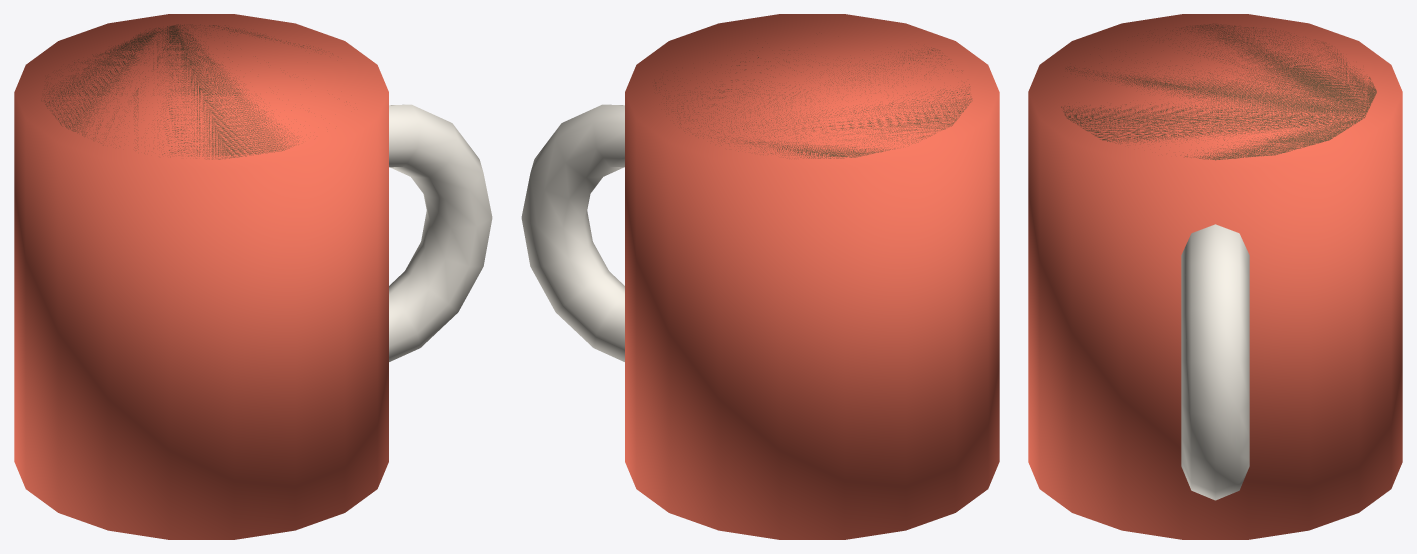
Rendered from Decor_CoffeeMug.fbx.
3 views of the same model, side by side, from view 1: azimuth 30°, elevation 25°; view 2: azimuth 150°, elevation 25°; view 3: azimuth 270°, elevation 25° (orthographic).
Parts seen in each view (by area): view 1: Mug_Body, Mug_Handle, Mug_Coffee; view 2: Mug_Body, Mug_Handle, Mug_Coffee; view 3: Mug_Body, Mug_Coffee, Mug_Handle.
Boxes of the visible parts, <box> form: Mug_Body: <box>14,14,388,539</box>; Mug_Handle: <box>389,104,492,361</box>; Mug_Coffee: <box>41,24,346,159</box>; Mug_Body: <box>625,14,999,539</box>; Mug_Handle: <box>521,104,624,361</box>; Mug_Coffee: <box>655,47,972,158</box>; Mug_Body: <box>1028,14,1402,539</box>; Mug_Coffee: <box>1061,23,1376,160</box>; Mug_Handle: <box>1181,224,1249,500</box>.
Bounding box in the file's own units: 3.03 × 2.4 × 2.2.
